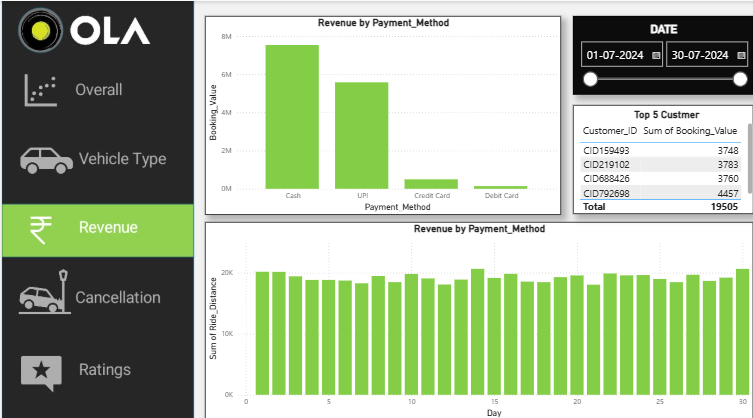

Layout of this report page (visuals, bound fields, positions):
{"tool":"powerbi","page":{"name":"revenue","canvas":[1280,720],"ordinal":2},"visuals":[{"type":"actionButton","box":[0,427.7,321.1,128.2],"z":0},{"type":"actionButton","box":[0,92.2,321.1,128.2],"z":1000},{"type":"actionButton","box":[0,193,321.1,128.2],"z":2000},{"type":"actionButton","box":[0,437.8,321.1,128.2],"z":3000},{"type":"actionButton","box":[0,591.8,321.1,128.2],"z":4000},{"type":"slicer","title":"DATE","fields":{"Values":["July.Date"]},"box":[958.3,25,303.3,131.7],"z":5000},{"type":"columnChart","title":"Revenue by Payment_Method","fields":{"Y":["Sum(July.Booking_Value)"],"Category":["July.Payment_Method"]},"box":[341,25.2,598,334.3],"z":6000},{"type":"columnChart","title":"Revenue by Payment_Method","fields":{"Y":["Sum(July.Ride_Distance)"],"Category":["July.Date.Variation.Date Hierarchy.Day"]},"box":[341,371.2,920.5,334.3],"z":7000},{"type":"tableEx","title":"Top 5 Custmer","fields":{"Values":["July.Customer_ID","Sum(July.Booking_Value)"]},"box":[958.3,175,303.3,183.3],"z":8000}]}

Visuals, with their boxes in screenshot pixels (x1, y1, x2, y2), scaled from the page's 1280x720 canvas onto the 753x418 screenshot:
actionButton: (0, 248, 189, 323)
actionButton: (0, 54, 189, 128)
actionButton: (0, 112, 189, 186)
actionButton: (0, 254, 189, 329)
actionButton: (0, 344, 189, 417)
"DATE" slicer: (564, 15, 742, 91)
"Revenue by Payment_Method" columnChart: (201, 15, 552, 209)
"Revenue by Payment_Method" columnChart: (201, 216, 742, 410)
"Top 5 Custmer" tableEx: (564, 102, 742, 208)
